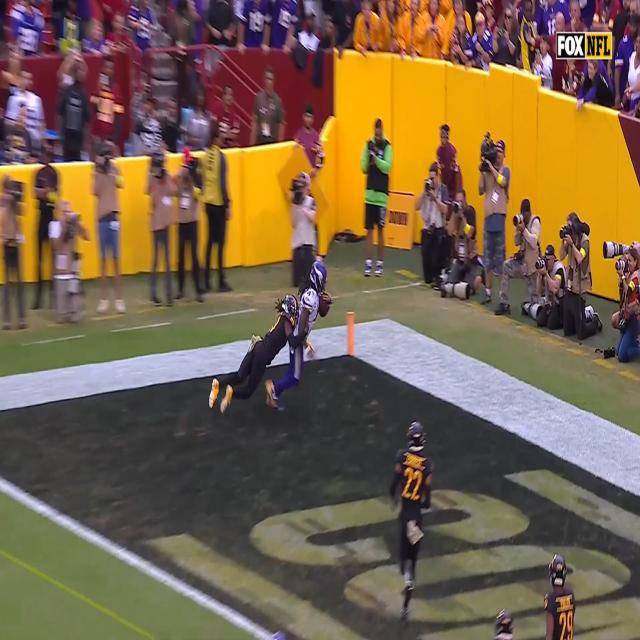football: (319, 294, 329, 316)
players: (209, 294, 304, 412), (267, 264, 332, 410), (388, 422, 432, 622), (544, 555, 576, 640)
